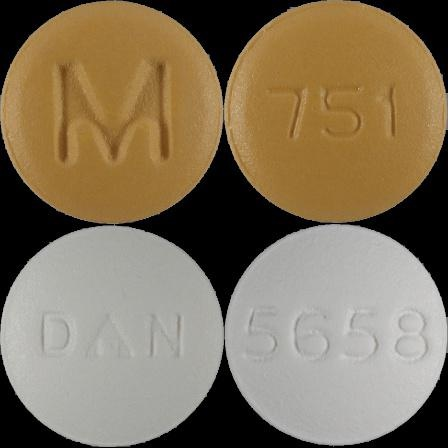51655-439: (0, 0, 224, 224)
